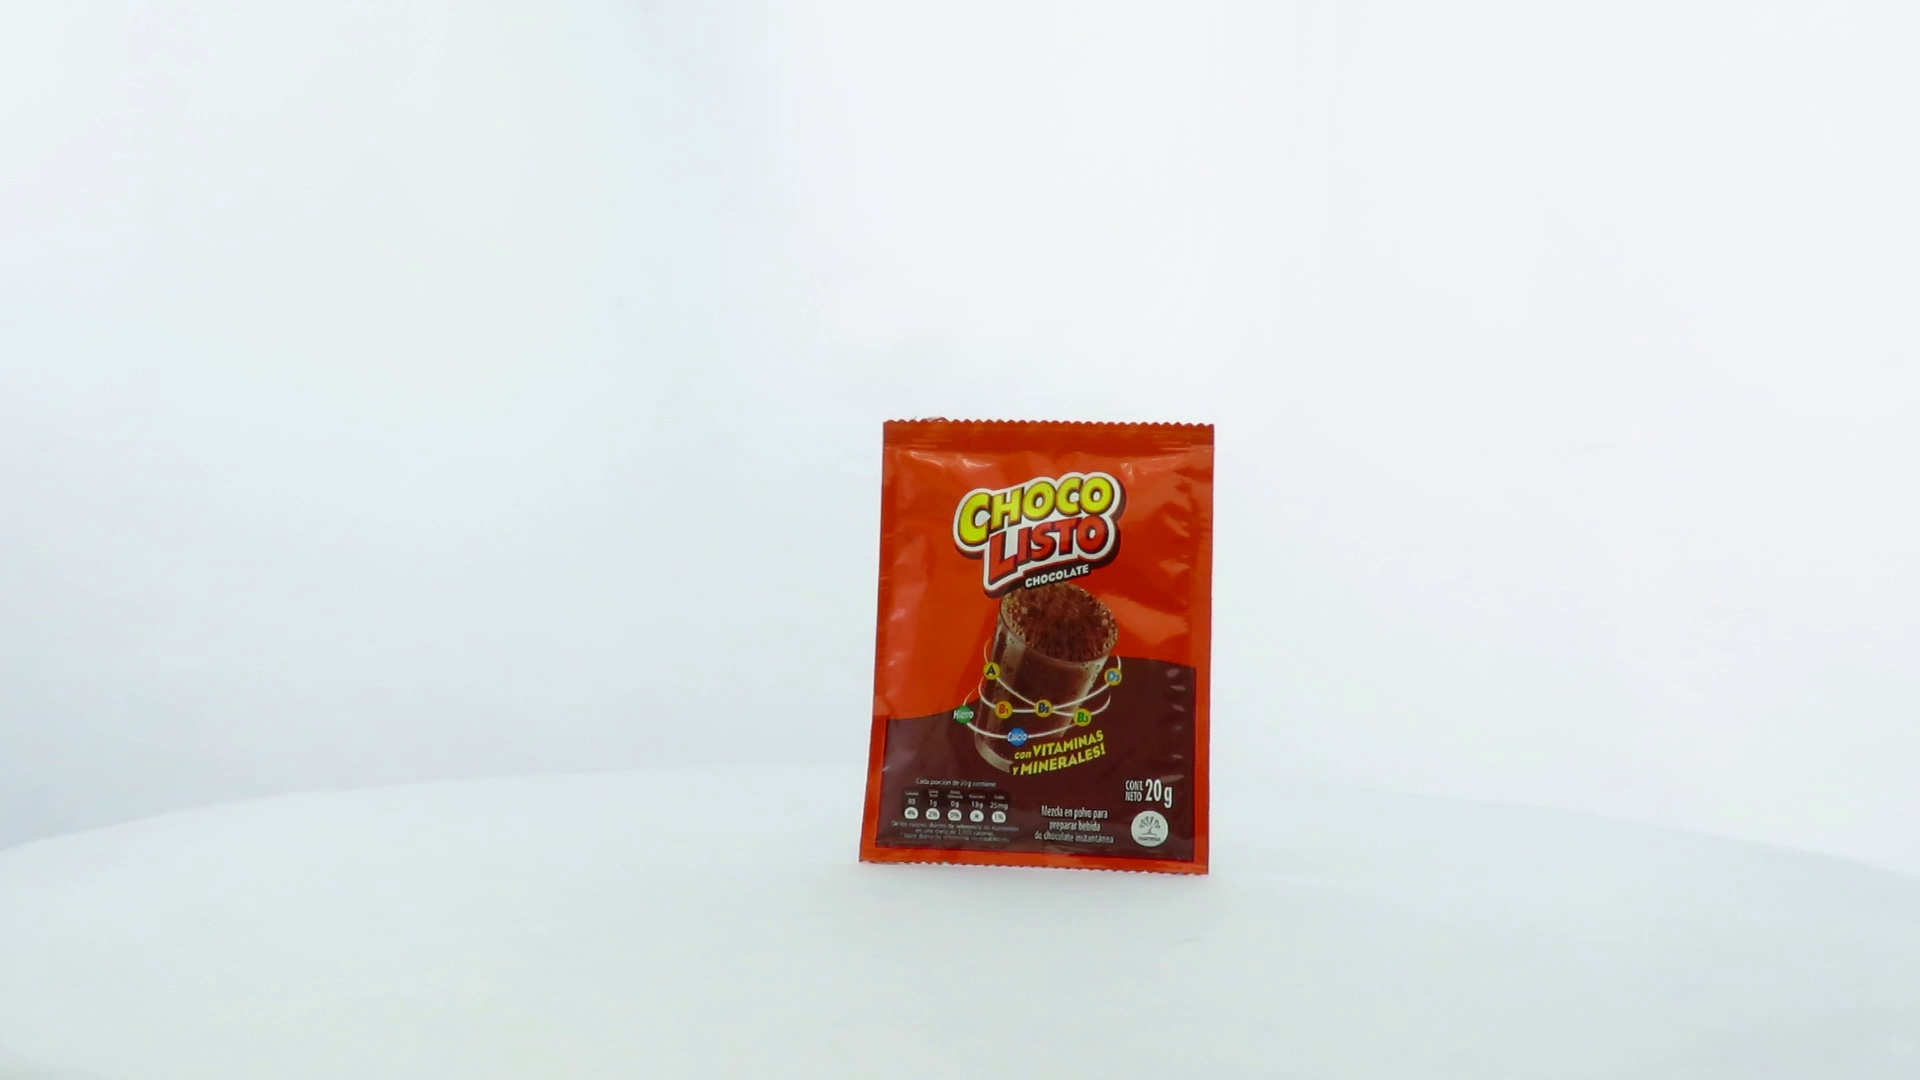COL0170103SOB02000: (853, 410, 1221, 882)
